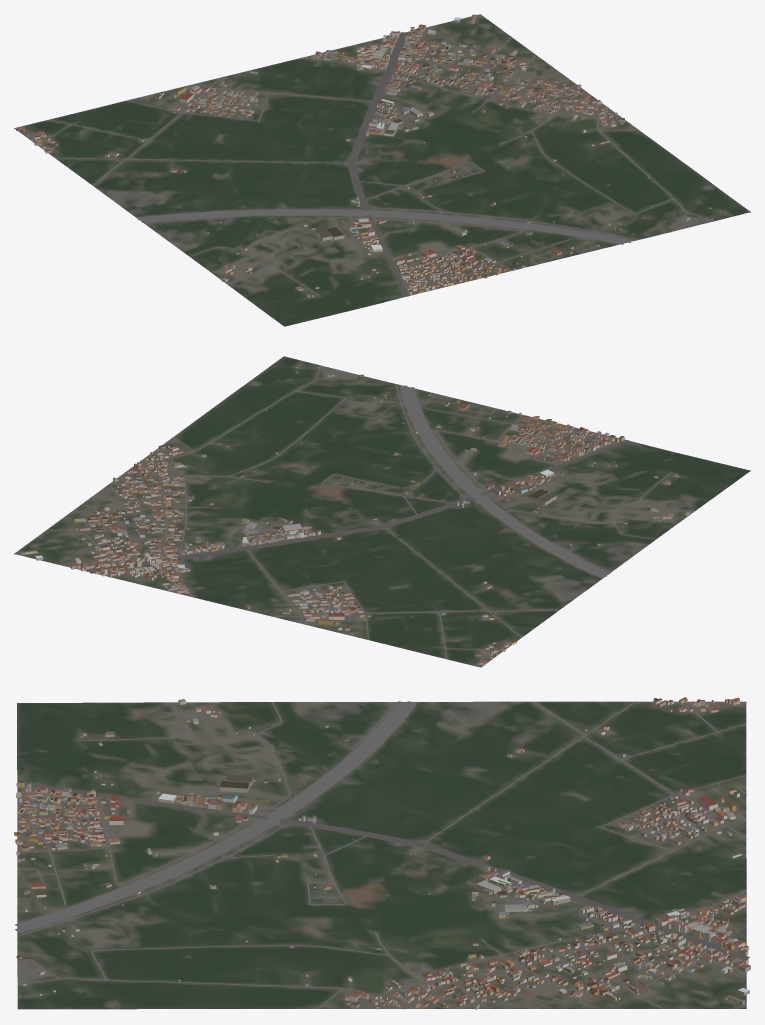
3 renders of one model, top to bottom at view 1: azimuth 30°, elevation 25°; view 2: azimuth 150°, elevation 25°; view 3: azimuth 270°, elevation 25°, orthographic. The views are drawn at different scales.
Parts seen in each view (by area): view 1: ground, buildings, roads; view 2: ground, buildings, roads; view 3: ground, buildings, roads.
Part boxes in pixels (<box>): ground: <box>14,14,750,326</box>; buildings: <box>16,14,721,296</box>; roads: <box>25,15,713,296</box>; ground: <box>14,356,750,667</box>; buildings: <box>21,365,690,665</box>; roads: <box>17,365,694,666</box>; ground: <box>17,701,746,1009</box>; buildings: <box>14,697,750,1009</box>; roads: <box>15,701,749,1009</box>.
Size of the model in its own units: 1408 by 22.26 by 1417.
